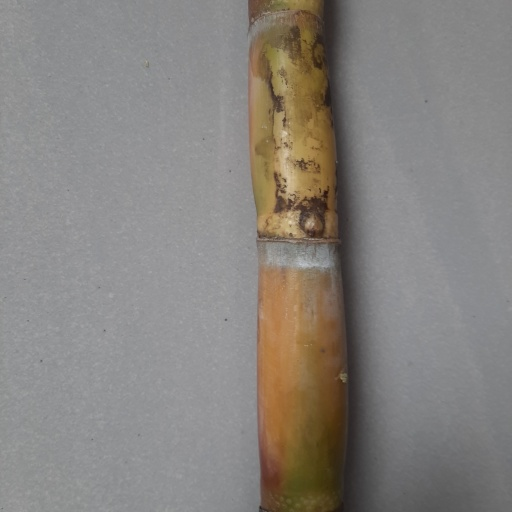Bud: (301, 210, 326, 236)
